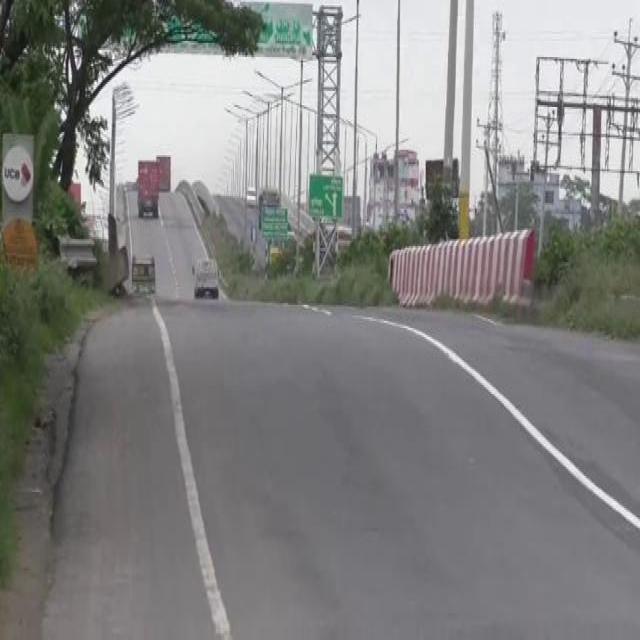pickup: (189, 258, 221, 300)
three wheelers -CNG-: (128, 254, 156, 297)
truck: (134, 157, 160, 223), (152, 148, 170, 196)
